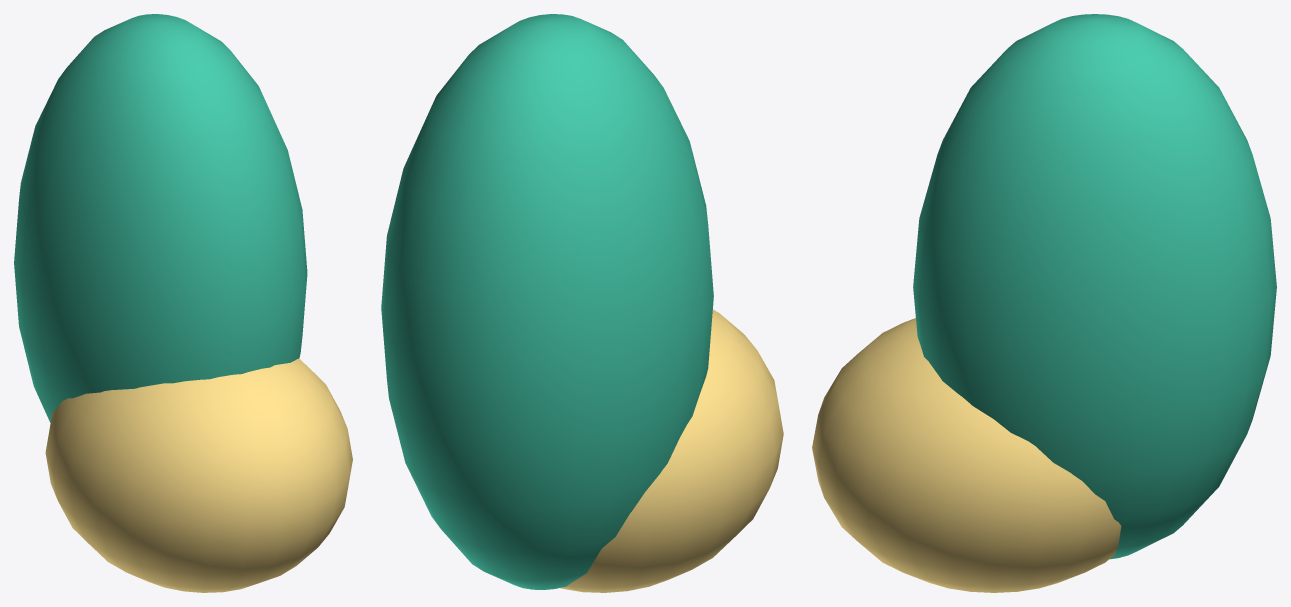
Rendered from dragon_arm_l.glb.
3 views of the same model, side by side, from view 1: azimuth 30°, elevation 25°; view 2: azimuth 150°, elevation 25°; view 3: azimuth 270°, elevation 25° (orthographic). The views are drawn at different scales.
Visible parts, largest first — view 1: dragon arm_l; view 2: dragon arm_l; view 3: dragon arm_l.
Boxes of the visible parts, bbox=[...] form: dragon arm_l: bbox=[14, 14, 352, 592]; dragon arm_l: bbox=[381, 14, 783, 592]; dragon arm_l: bbox=[812, 14, 1276, 592].
Bounding box in the file's own units: 0.32 × 0.61 × 0.46.
